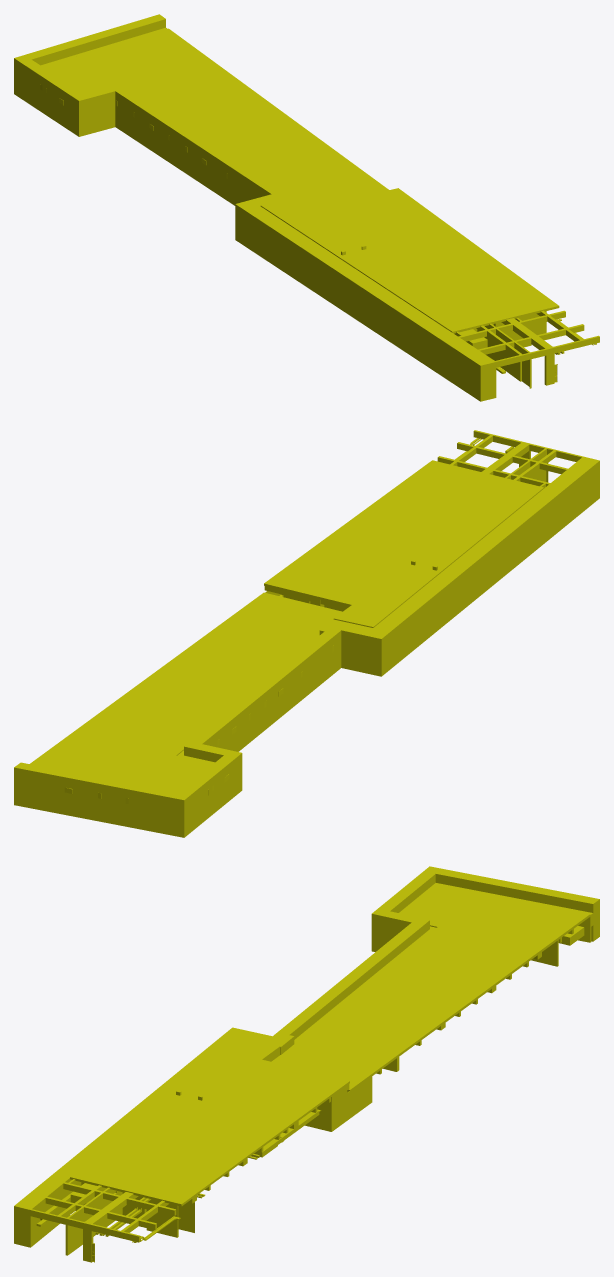
3 views of the same model, one above another, from view 1: azimuth 30°, elevation 25°; view 2: azimuth 150°, elevation 25°; view 3: azimuth 330°, elevation 25° (orthographic). The views are drawn at different scales.
Parts seen in each view (by area): view 1: 楼板_中金所逆作地下二层建筑楼板_100mm_[22326.000_Untitled.049, 楼板_中金所逆作地下二层建筑楼板_100mm_[22330.000_Untitled.244, 楼板_中金所逆作地下二层建筑楼板_100mm_[2232690]_Untitled.312, 楼板_中金所逆作地下二层建筑楼板_100mm_[2233049]_Untitled.230, 基本墙_WQB8_-_1200mm_[2230728]_Untitled.147, 基本墙_WQB1_-_1200mm_[2230724]_Untitled.095, 基本墙_WQB1_-_1200mm_[2230718]_Untitled.087, 基本墙_地下连续墙-1200m_[2543593]_Untitled.187, 基本墙_WQB2_-_1200mm_[2230722]_Untitled.042, 基本墙_WQB1_-_1200mm_[2230730]_Untitled.107, 基本墙_WQB1_-_1200mm_[2230720]_Untitled.298, 基本墙_建筑墙_200mm_[2544774]_Untitled.168 (+3 smaller); view 2: 楼板_中金所逆作地下二层建筑楼板_100mm_[2232690]_Untitled.312, 楼板_中金所逆作地下二层建筑楼板_100mm_[22330.000_Untitled.244, 楼板_中金所逆作地下二层建筑楼板_100mm_[22326.000_Untitled.049, 楼板_中金所逆作地下二层建筑楼板_100mm_[2233049]_Untitled.230, 基本墙_WQB8_-_1200mm_[2230728]_Untitled.147, 基本墙_WQB1_-_1200mm_[2230730]_Untitled.107, 基本墙_WQB1_-_1200mm_[2230724]_Untitled.095, 基本墙_WQB1_-_1200mm_[2230718]_Untitled.087, 基本墙_WQB2_-_1200mm_[2230722]_Untitled.042, 基本墙_WQB8_-_1200mm_[2230726]_Untitled.265, 基本墙_地下连续墙-1200m_[2543593]_Untitled.187, 混凝土-矩形梁1_H-DL-101_300×550_mm_[2543845]_Untitled.253 (+2 smaller); view 3: 楼板_中金所逆作地下二层建筑楼板_100mm_[22326.000_Untitled.049, 楼板_中金所逆作地下二层建筑楼板_100mm_[22330.000_Untitled.244, 楼板_中金所逆作地下二层建筑楼板_100mm_[2232690]_Untitled.312, 楼板_中金所逆作地下二层建筑楼板_100mm_[2233049]_Untitled.230, 基本墙_WQB1_-_1200mm_[2230730]_Untitled.107, 基本墙_WQB8_-_1200mm_[2230728]_Untitled.147, 基本墙_WQB1_-_1200mm_[2230724]_Untitled.095, 基本墙_WQB1_-_1200mm_[2230718]_Untitled.087, 基本墙_WQB2_-_1200mm_[2230722]_Untitled.042, 基本墙_衬墙-200m_[2544750]_Untitled.018, 基本墙_地下连续墙-1200m_[2543593]_Untitled.187, 基本墙_建筑墙_200mm_[2544774]_Untitled.168 (+9 smaller).
Part boxes in pixels (x1=…): 楼板_中金所逆作地下二层建筑楼板_100mm_[22326.000_Untitled.049: x1=52, y1=28, x2=389, y2=208; 楼板_中金所逆作地下二层建筑楼板_100mm_[22330.000_Untitled.244: x1=296, y1=188, x2=559, y2=332; 楼板_中金所逆作地下二层建筑楼板_100mm_[2232690]_Untitled.312: x1=43, y1=29, x2=386, y2=192; 楼板_中金所逆作地下二层建筑楼板_100mm_[2233049]_Untitled.230: x1=260, y1=188, x2=557, y2=331; 基本墙_WQB8_-_1200mm_[2230728]_Untitled.147: x1=242, y1=206, x2=446, y2=372; 基本墙_WQB1_-_1200mm_[2230724]_Untitled.095: x1=115, y1=88, x2=217, y2=187; 基本墙_WQB1_-_1200mm_[2230718]_Untitled.087: x1=14, y1=55, x2=89, y2=136; 基本墙_地下连续墙-1200m_[2543593]_Untitled.187: x1=437, y1=334, x2=491, y2=401; 基本墙_WQB2_-_1200mm_[2230722]_Untitled.042: x1=207, y1=148, x2=289, y2=205; 基本墙_WQB1_-_1200mm_[2230730]_Untitled.107: x1=25, y1=14, x2=165, y2=65; 基本墙_WQB1_-_1200mm_[2230720]_Untitled.298: x1=83, y1=83, x2=125, y2=133; 基本墙_建筑墙_200mm_[2544774]_Untitled.168: x1=489, y1=323, x2=531, y2=388; 楼板_中金所逆作地下二层建筑楼板_100mm_[2232690]_Untitled.312: x1=32, y1=593, x2=339, y2=792; 楼板_中金所逆作地下二层建筑楼板_100mm_[22330.000_Untitled.244: x1=264, y1=460, x2=543, y2=619; 楼板_中金所逆作地下二层建筑楼板_100mm_[22326.000_Untitled.049: x1=30, y1=592, x2=342, y2=790; 楼板_中金所逆作地下二层建筑楼板_100mm_[2233049]_Untitled.230: x1=265, y1=460, x2=543, y2=627; 基本墙_WQB8_-_1200mm_[2230728]_Untitled.147: x1=376, y1=489, x2=560, y2=671; 基本墙_WQB1_-_1200mm_[2230730]_Untitled.107: x1=14, y1=762, x2=177, y2=835; 基本墙_WQB1_-_1200mm_[2230724]_Untitled.095: x1=190, y1=675, x2=283, y2=751; 基本墙_WQB1_-_1200mm_[2230718]_Untitled.087: x1=172, y1=750, x2=242, y2=837; 基本墙_WQB2_-_1200mm_[2230722]_Untitled.042: x1=272, y1=622, x2=347, y2=714; 基本墙_WQB8_-_1200mm_[2230726]_Untitled.265: x1=341, y1=625, x2=387, y2=676; 基本墙_地下连续墙-1200m_[2543593]_Untitled.187: x1=549, y1=457, x2=599, y2=529; 混凝土-矩形梁1_H-DL-101_300×550_mm_[2543845]_Untitled.253: x1=457, y1=442, x2=567, y2=474; 楼板_中金所逆作地下二层建筑楼板_100mm_[22326.000_Untitled.049: x1=271, y1=891, x2=590, y2=1090; 楼板_中金所逆作地下二层建筑楼板_100mm_[22330.000_Untitled.244: x1=70, y1=1045, x2=349, y2=1205; 楼板_中金所逆作地下二层建筑楼板_100mm_[2232690]_Untitled.312: x1=286, y1=885, x2=589, y2=1089; 楼板_中金所逆作地下二层建筑楼板_100mm_[2233049]_Untitled.230: x1=72, y1=1037, x2=348, y2=1203; 基本墙_WQB1_-_1200mm_[2230730]_Untitled.107: x1=435, y1=868, x2=599, y2=941; 基本墙_WQB8_-_1200mm_[2230728]_Untitled.147: x1=53, y1=1032, x2=237, y2=1176; 基本墙_WQB1_-_1200mm_[2230724]_Untitled.095: x1=330, y1=922, x2=423, y2=1000; 基本墙_WQB1_-_1200mm_[2230718]_Untitled.087: x1=371, y1=866, x2=441, y2=951; 基本墙_WQB2_-_1200mm_[2230722]_Untitled.042: x1=267, y1=989, x2=342, y2=1043; 基本墙_衬墙-200m_[2544750]_Untitled.018: x1=28, y1=1177, x2=69, y2=1247; 基本墙_地下连续墙-1200m_[2543593]_Untitled.187: x1=14, y1=1174, x2=64, y2=1246; 基本墙_建筑墙_200mm_[2544774]_Untitled.168: x1=65, y1=1187, x2=110, y2=1255.
Size of the model in its own units: 16.48 by 4.87 by 81.53.
